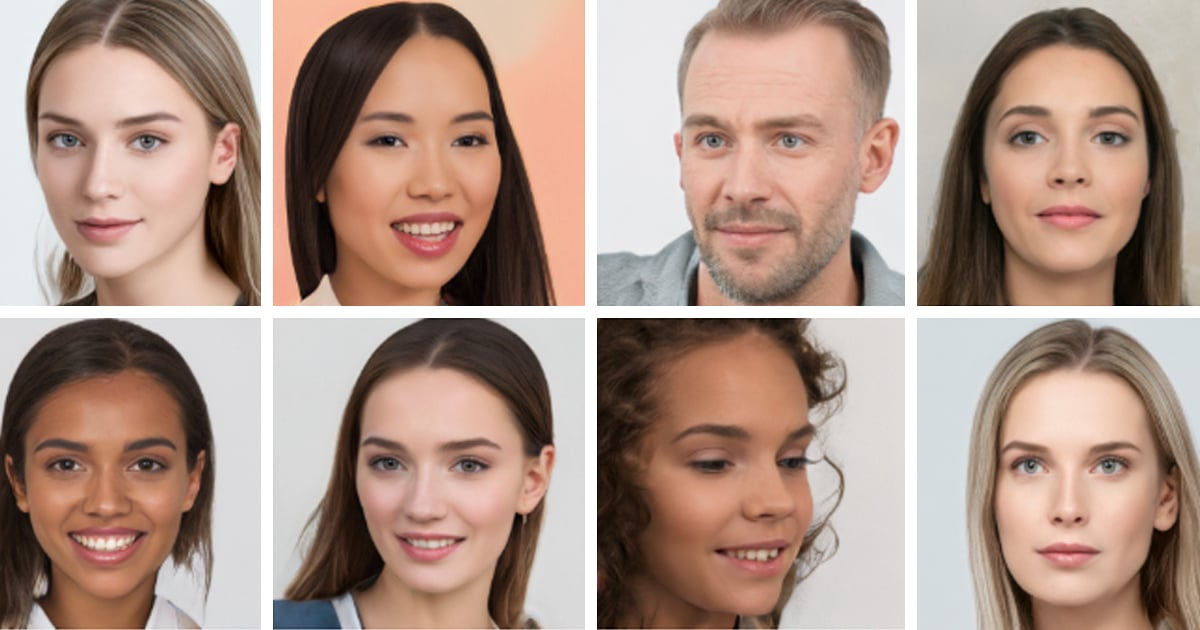without_mask: (667, 68, 901, 307), (948, 41, 1182, 280), (956, 373, 1190, 612), (604, 381, 838, 620), (327, 363, 561, 602), (31, 53, 243, 281), (304, 64, 516, 292), (1, 386, 213, 609)
